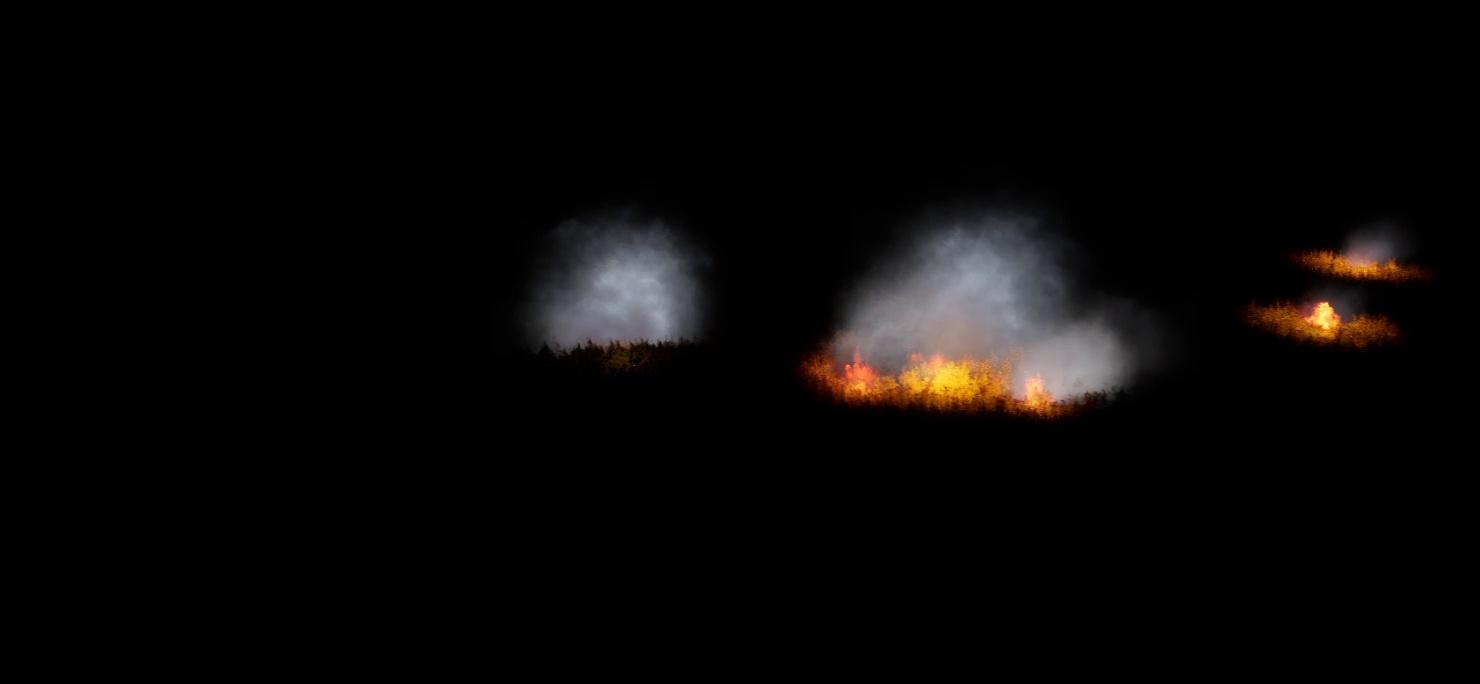fire: (810, 352, 1060, 417), (1307, 296, 1342, 337)
smoke: (830, 194, 1160, 409), (522, 196, 704, 355), (1339, 232, 1397, 273)
